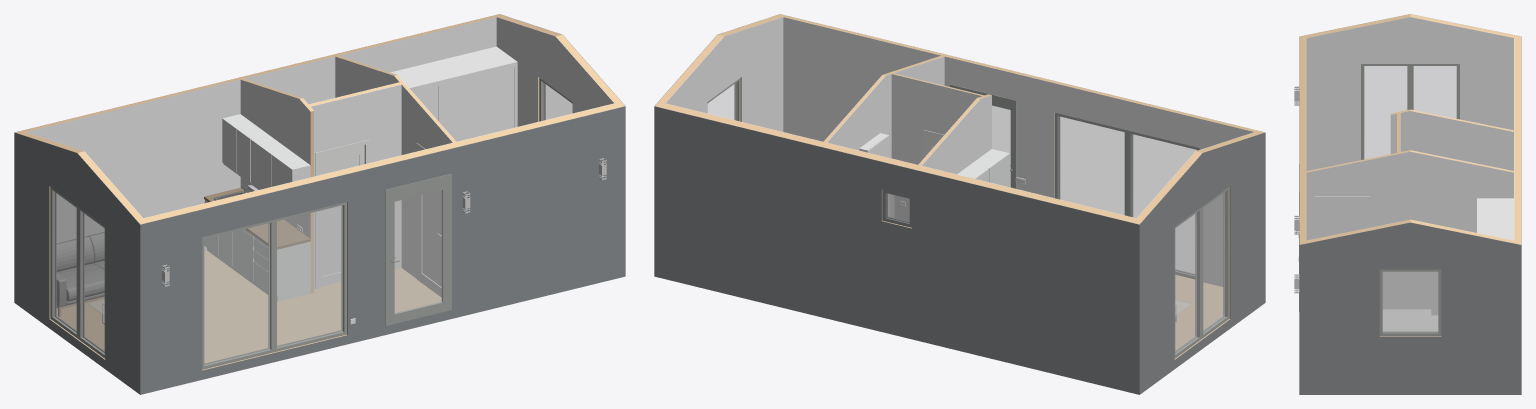
Rendered from juraitela@gmail.fbx.
3 renders of one model, left to right at view 1: azimuth 30°, elevation 25°; view 2: azimuth 150°, elevation 25°; view 3: azimuth 270°, elevation 25°, orthographic. The views are drawn at different scales.
Visible parts, largest first — view 1: IfcWall/Part:2370825, IfcWall/Part:2370830, IfcWall/Part:2370858, IfcSlab/Part:2370833, IfcWindow/Aluprof_MB-86-SI_E_Alu_Window-1sash-FIX_ENG_R-0004 (×2), IfcWindow/Aluprof_MB-86-SI_E_Alu_Window-1sash-FIX_ENG_R-000, IfcDoor/Simple_vitree_-_03:1000x2100:2370780, IfcFurnishingElement/Cabinet_-_Storage:2600 x 600 x 2100mm:2, IfcWindow/Aluprof_MB-86-SI_E_Alu_Window-1sash-FIX_ENG_R-000. (×2), IfcWall/Part:2370827, IfcWall/Part:2370821, IfcWall/Part:2370841 (+18 smaller); view 2: IfcWall/Part:2370831, IfcWall/Part:2370824, IfcWall/Part:2370858, IfcWindow/Aluprof_MB-86-SI_E_Alu_Window-1sash-FIX_ENG_R-0004 (×3), IfcWindow/Aluprof_MB-86-SI_E_Alu_Window-1sash-FIX_ENG_R-000. (×2), IfcWall/Part:2370827, IfcWall/Part:2370822, IfcWindow/Aluprof_MB-86-SI_E_Alu_Window-1sash-FIX_ENG_R-000, IfcWall/Part:2370832, IfcWall/Part:2370841, IfcWall/Part:2370843, IfcSlab/Part:2370833 (+6 smaller); view 3: IfcWall/Part:2370828, IfcWall/Part:2370857, IfcWall/Part:2370818, IfcWindow/Aluprof_MB-86-SI_E_Alu_Window-1sash-FIX_ENG_R-000. (×2), IfcWall/Part:2419483, IfcWindow/Aluprof_MB-86-SI_E_Alu_Window-1sash-FIX_ENG_R-0004, IfcDoor/Simple_vitree_-_03:800x2100mm:2370847, IfcWall/Part:2370832, IfcWall/Part:2370826, IfcFurnishingElement/Cabinet_-_Storage:2600 x 600 x 2100mm:2, IfcFurnishingElement/Cama - 3D - Genérico - Modelo Helsinki:, IfcWall/Part:2370829 (+5 smaller).
Part boxes in pixels (<box>): IfcWall/Part:2370825: <box>140,106,625,394</box>; IfcWall/Part:2370830: <box>26,17,496,250</box>; IfcWall/Part:2370858: <box>14,132,139,394</box>; IfcSlab/Part:2370833: <box>56,250,441,363</box>; IfcWindow/Aluprof_MB-86-SI_E_Alu_Window-1sash-FIX_ENG_R-0004 (×2): <box>273,78,572,352</box>; IfcWindow/Aluprof_MB-86-SI_E_Alu_Window-1sash-FIX_ENG_R-000: <box>202,220,274,369</box>; IfcDoor/Simple_vitree_-_03:1000x2100:2370780: <box>385,173,451,325</box>; IfcFurnishingElement/Cabinet_-_Storage:2600 x 600 x 2100mm:2: <box>390,46,517,141</box>; IfcWindow/Aluprof_MB-86-SI_E_Alu_Window-1sash-FIX_ENG_R-000. (×2): <box>50,187,105,358</box>; IfcWall/Part:2370827: <box>496,17,613,126</box>; IfcWall/Part:2370821: <box>311,84,401,288</box>; IfcWall/Part:2370841: <box>240,79,310,238</box>; IfcWall/Part:2370831: <box>654,106,1139,394</box>; IfcWall/Part:2370824: <box>783,17,1253,286</box>; IfcWall/Part:2370858: <box>1140,132,1265,394</box>; IfcWindow/Aluprof_MB-86-SI_E_Alu_Window-1sash-FIX_ENG_R-0004 (×3): <box>707,78,1128,227</box>; IfcWindow/Aluprof_MB-86-SI_E_Alu_Window-1sash-FIX_ENG_R-000. (×2): <box>1174,187,1229,358</box>; IfcWall/Part:2370827: <box>666,17,783,131</box>; IfcWall/Part:2370822: <box>891,74,982,221</box>; IfcWindow/Aluprof_MB-86-SI_E_Alu_Window-1sash-FIX_ENG_R-000: <box>1128,131,1199,279</box>; IfcWall/Part:2370832: <box>655,102,1142,228</box>; IfcWall/Part:2370841: <box>921,95,991,174</box>; IfcWall/Part:2370843: <box>827,74,891,158</box>; IfcSlab/Part:2370833: <box>1175,276,1223,350</box>; IfcWall/Part:2370828: <box>1299,222,1521,394</box>; IfcWall/Part:2370857: <box>1306,17,1513,170</box>; IfcWall/Part:2370818: <box>1306,151,1513,315</box>; IfcWindow/Aluprof_MB-86-SI_E_Alu_Window-1sash-FIX_ENG_R-000. (×2): <box>1361,64,1459,159</box>; IfcWall/Part:2419483: <box>1400,111,1513,170</box>; IfcWindow/Aluprof_MB-86-SI_E_Alu_Window-1sash-FIX_ENG_R-0004: <box>1379,269,1441,335</box>; IfcDoor/Simple_vitree_-_03:800x2100mm:2370847: <box>1315,196,1369,238</box>; IfcWall/Part:2370832: <box>1514,35,1521,244</box>; IfcWall/Part:2370826: <box>1299,35,1306,241</box>; IfcFurnishingElement/Cabinet_-_Storage:2600 x 600 x 2100mm:2: <box>1477,198,1513,240</box>; IfcFurnishingElement/Cama - 3D - Genérico - Modelo Helsinki:: <box>1382,309,1438,331</box>; IfcWall/Part:2370829: <box>1299,219,1514,336</box>.
Size of the model in its own units: 800 by 308 by 368.
